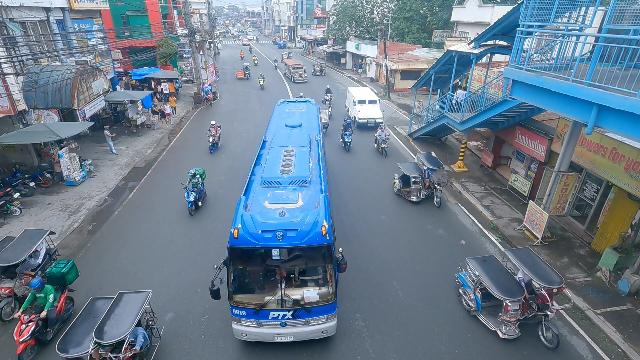bus: (220, 97, 344, 343)
car: (242, 39, 251, 46)
jeepney: (283, 59, 308, 84)
motorcycle: (11, 264, 78, 360), (179, 169, 210, 217), (340, 117, 354, 149), (374, 125, 389, 150), (323, 85, 333, 106), (258, 73, 266, 90), (253, 54, 259, 65), (274, 59, 279, 70), (239, 49, 245, 58), (249, 46, 253, 54)
van: (345, 87, 382, 129)
